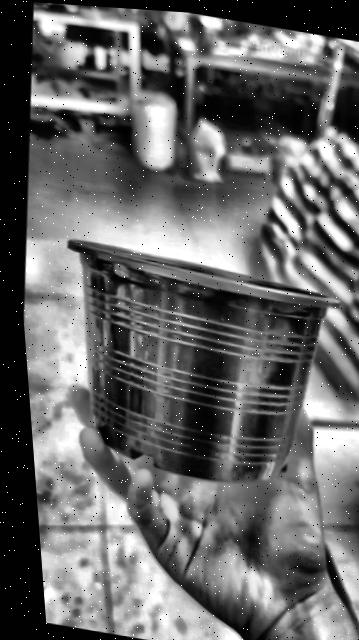pot: (68, 239, 337, 482)
